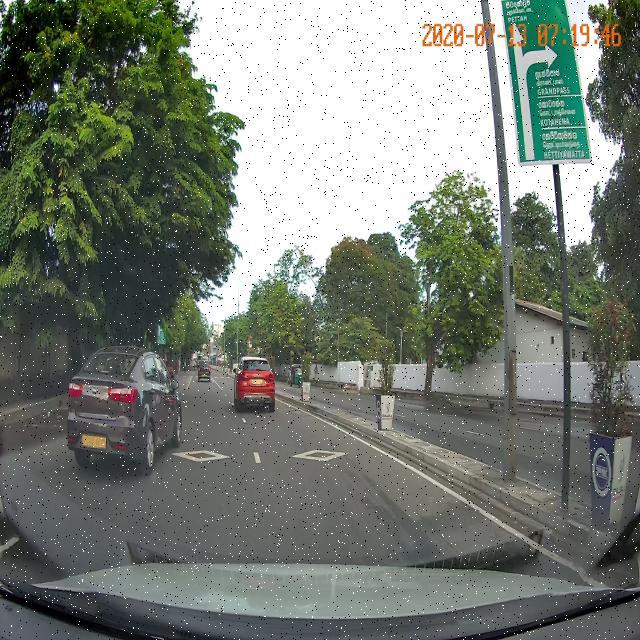diamond: (255, 438, 395, 474)
